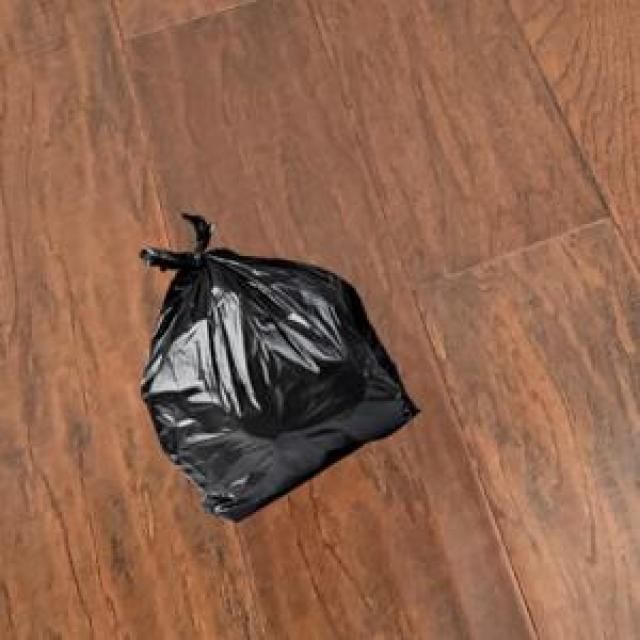miscellaneous trash: (137, 209, 416, 518)
